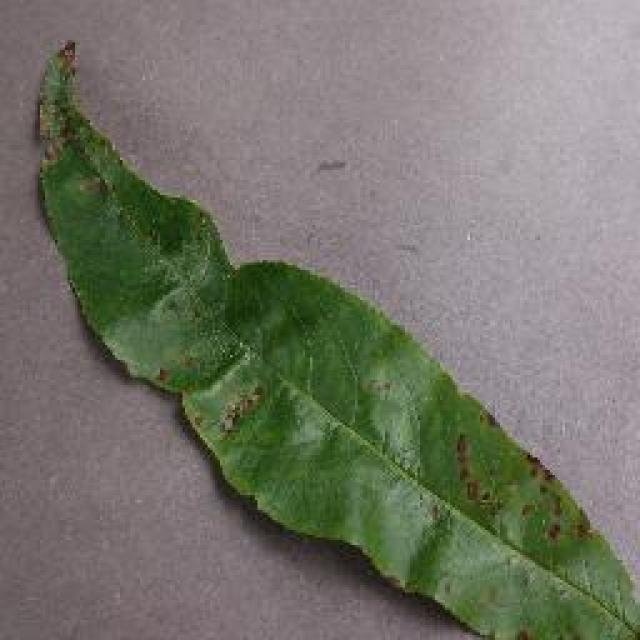Peach_Bacterial_Spot: (196, 285, 542, 527)
